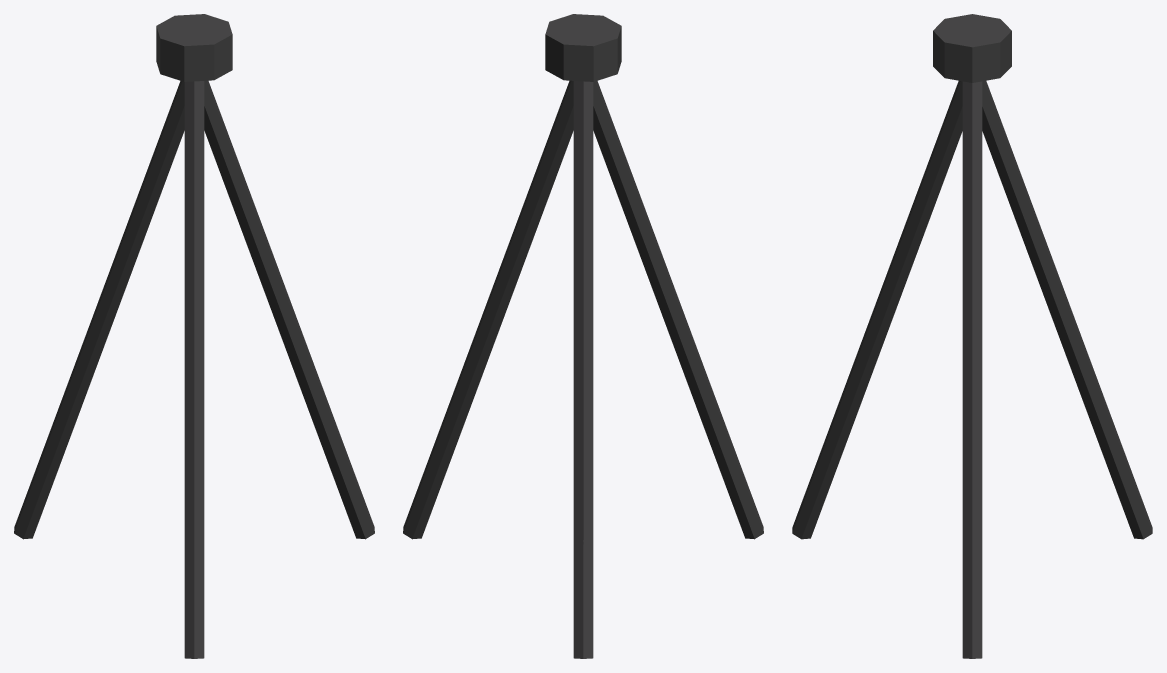
The picture shows the model from 3 angles, left to right: view 1: azimuth 30°, elevation 25°; view 2: azimuth 150°, elevation 25°; view 3: azimuth 270°, elevation 25°; orthographic projection.
Visible parts, largest first — view 1: Leg.002, Leg, Leg.001, Mount; view 2: Leg.001, Leg, Leg.002, Mount; view 3: Leg, Leg.002, Leg.001, Mount.
Part boxes in pixels (box(x1,y1,x2,y2)): Leg.002: box(184, 81, 204, 658); Leg: box(204, 80, 374, 539); Leg.001: box(14, 81, 184, 539); Mount: box(156, 14, 232, 81); Leg.001: box(573, 81, 593, 658); Leg: box(403, 80, 573, 539); Leg.002: box(593, 81, 763, 539); Mount: box(545, 14, 621, 81); Leg: box(962, 81, 982, 658); Leg.002: box(792, 80, 962, 539); Leg.001: box(982, 80, 1152, 539); Mount: box(933, 14, 1011, 82).
Bounding box in the file's own units: 56.35 × 107 × 63.98.
